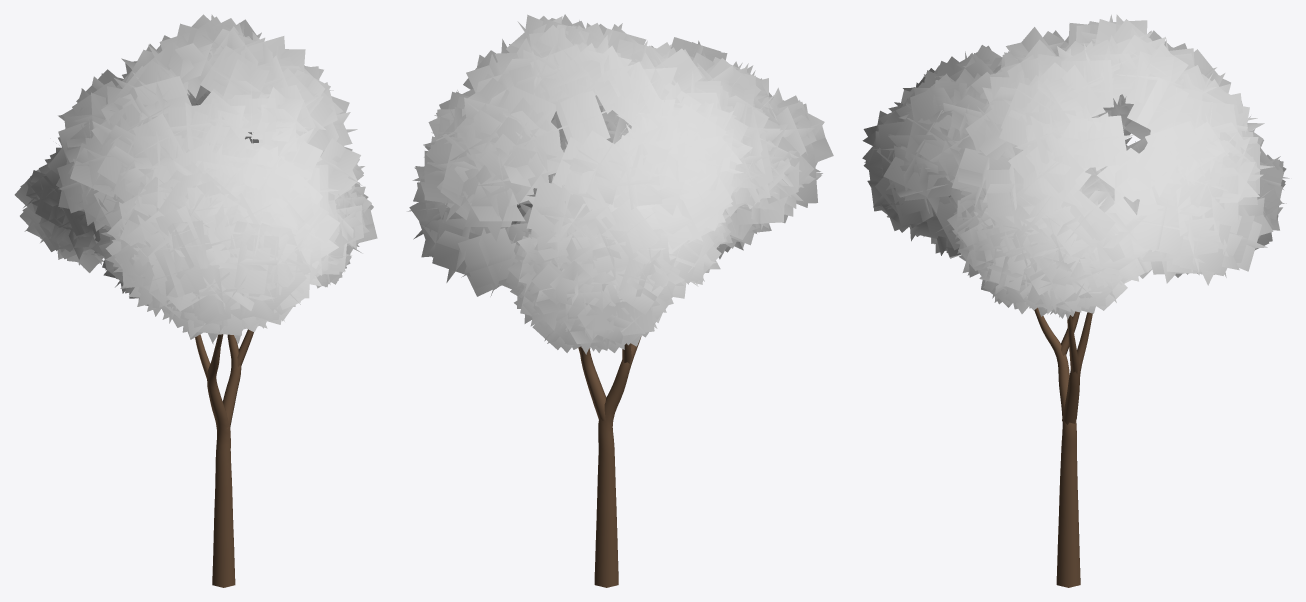
The model's file is Tree_.fbx.
3 renders of one model, left to right at view 1: azimuth 30°, elevation 25°; view 2: azimuth 150°, elevation 25°; view 3: azimuth 270°, elevation 25°, orthographic. The views are drawn at different scales.
Parts seen in each view (by area): view 1: Leaves, Trunk; view 2: Leaves, Trunk; view 3: Leaves, Trunk.
Boxes of the visible parts, x1,y1,x2,y2 form: Leaves: (14,14,377,344); Trunk: (195,329,253,587); Leaves: (407,14,833,354); Trunk: (578,336,641,587); Leaves: (862,14,1289,319); Trunk: (1034,307,1092,587).
Bounding box in the file's own units: 7.09 × 12.47 × 8.71.
